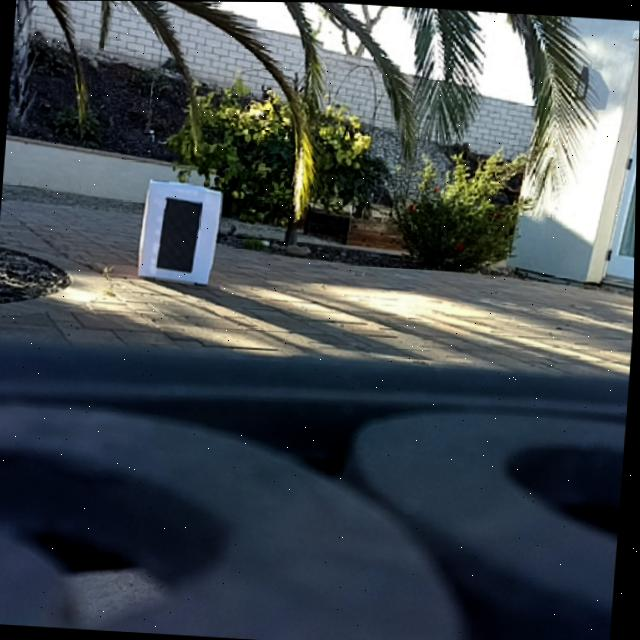led: (158, 196, 204, 274)
